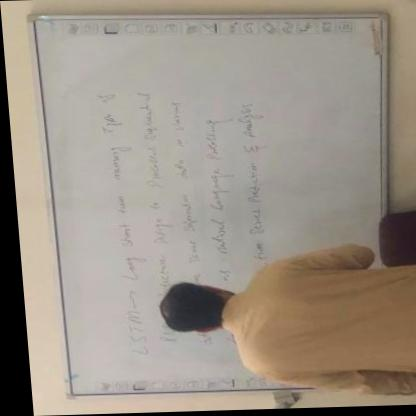Handwritten text: (92, 88, 145, 360), (128, 84, 175, 354), (190, 104, 242, 287), (225, 96, 278, 269), (160, 90, 201, 295)
Lecturer: (139, 224, 416, 397)
Whiteboard: (29, 2, 401, 403)
